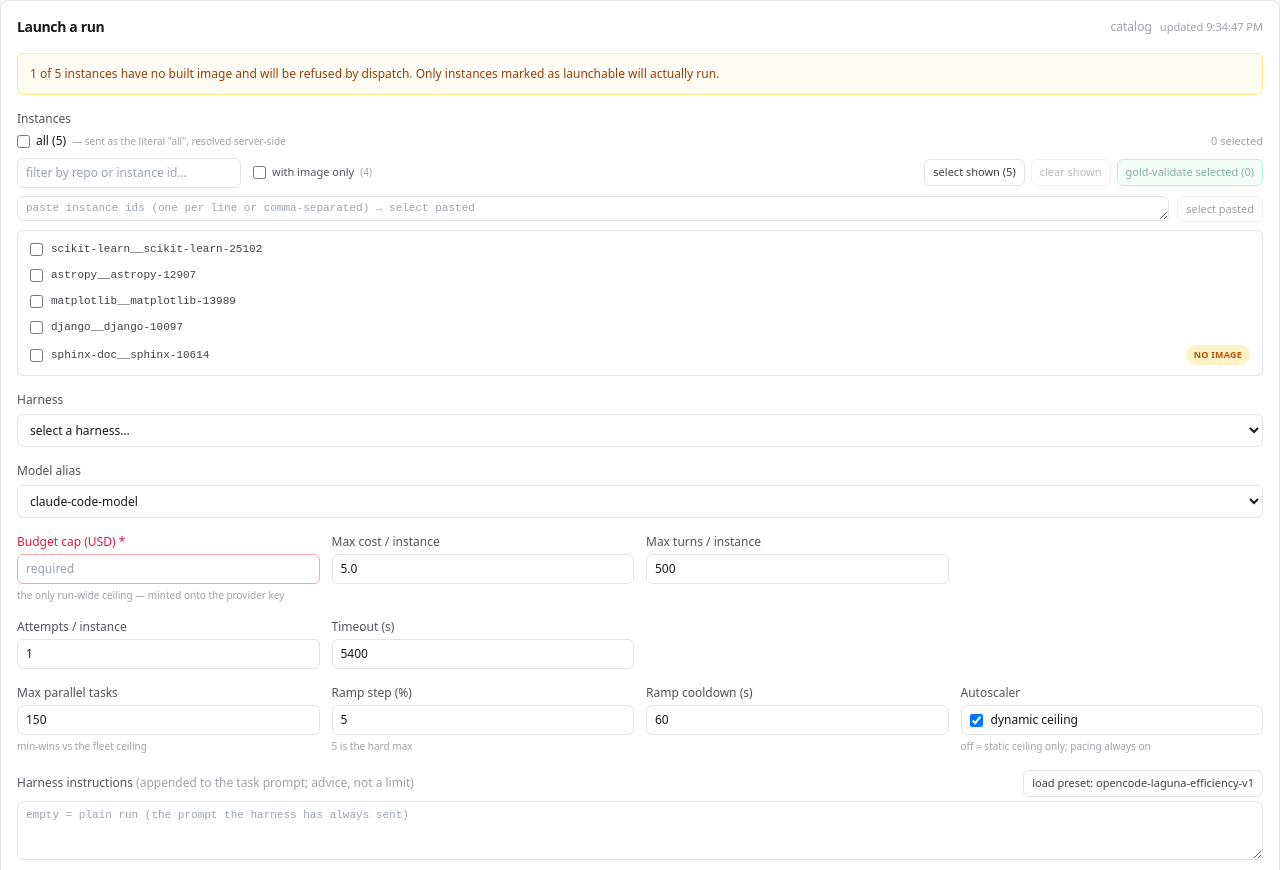
it: LaunchScreen — §7 launch-body correctness rules › "with image only" filters the instance list to launchable instances
Expected: the checkbox labelled "sphinx-doc__sphinx-10614 no image" is shown, [30,348,43,362]
Note: Toggling "with image only" hides the non-launchable instance.
Click the checkbox labelled "with image only (4)" at (260,172), box [253,166,266,179]
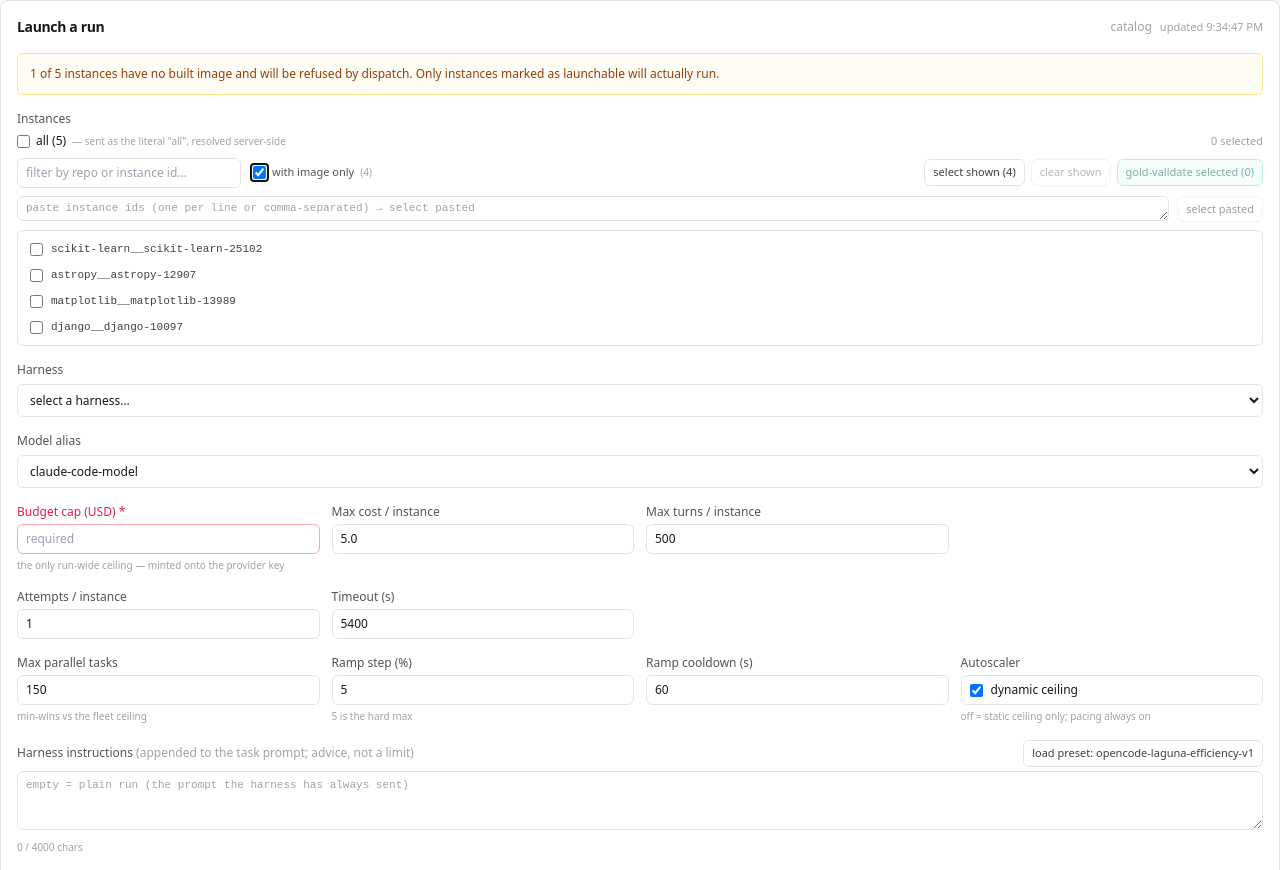
Expected: the checkbox labelled "scikit-learn__scikit-learn-25102" is shown, [30,242,43,256]
Expected: the text labelled "sphinx-doc__sphinx-10614" is gone
